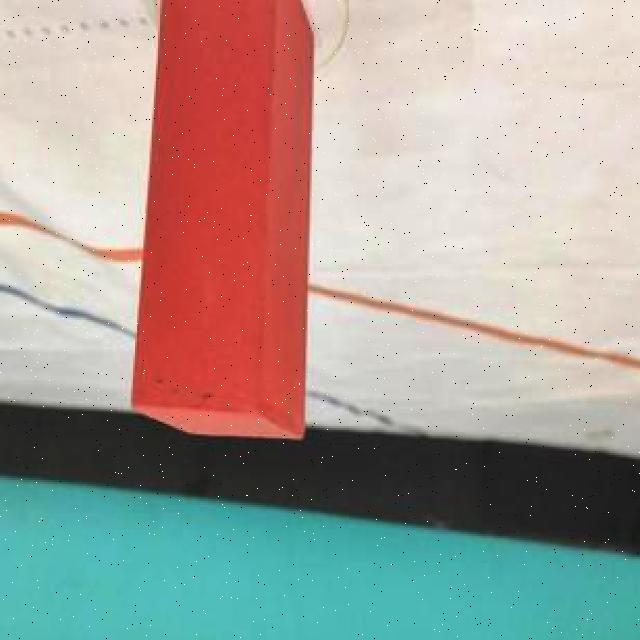redbox: (131, 1, 320, 440)
